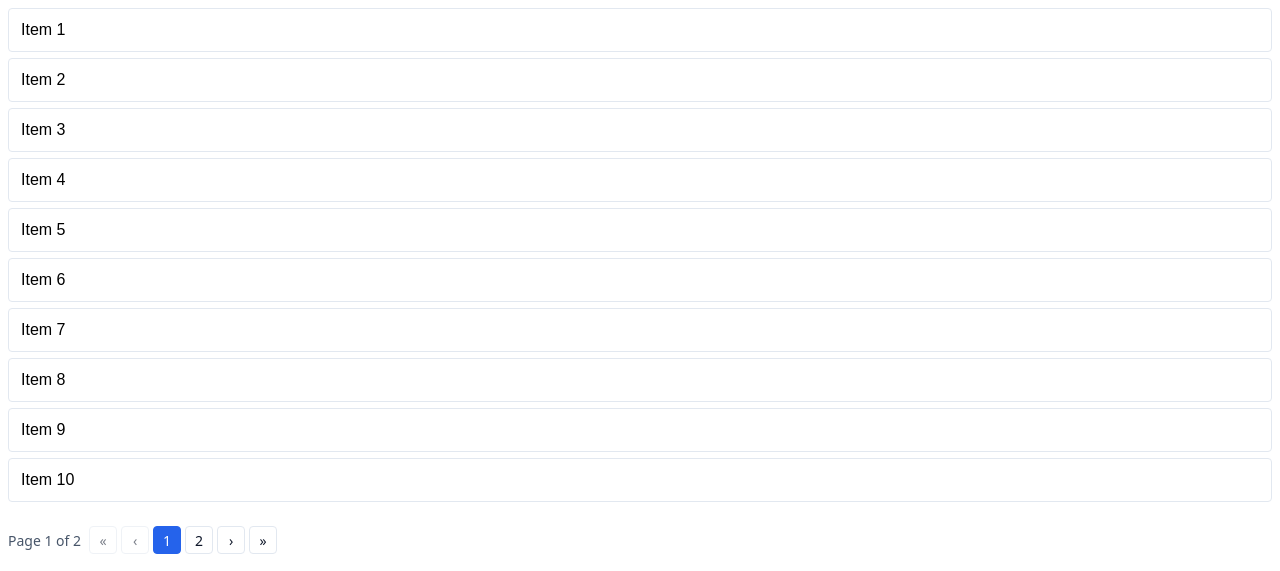
Scenario: DataList › pages through items via the pager
Click the button "2".
click(199, 540)  # box [185, 526, 213, 554]
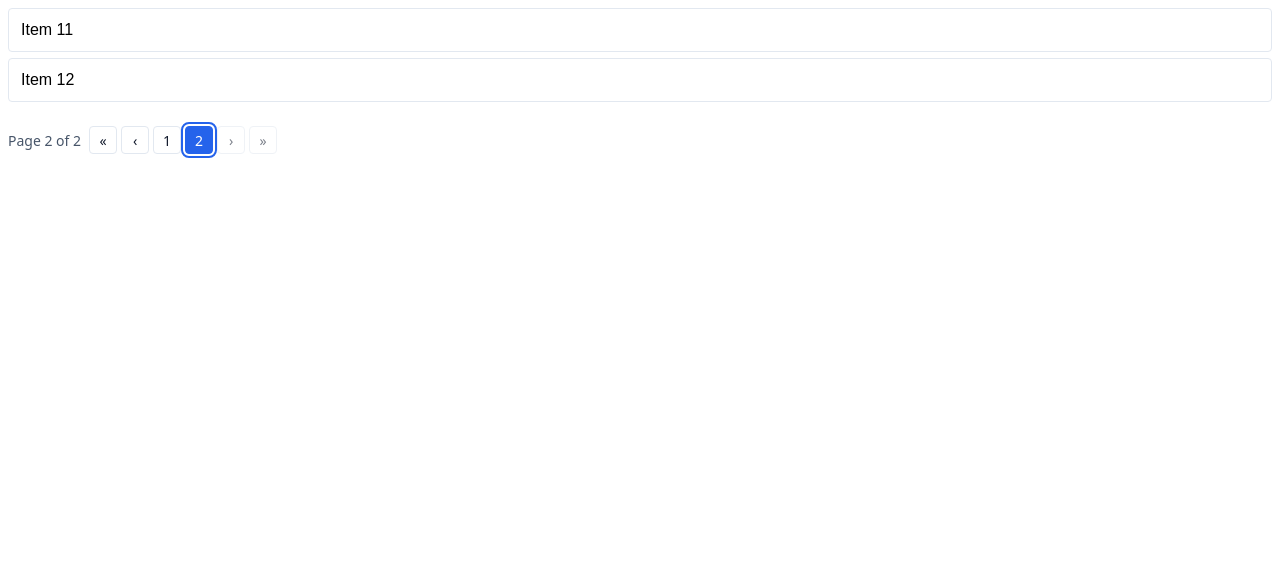
Now the number of elements with test id "datalist-item" is 2, box [21, 21, 73, 38]; [21, 71, 74, 88]
Now the text "Item 11" is shown, box [21, 21, 73, 38]
Now the text "Item 12" is shown, box [21, 71, 74, 88]
